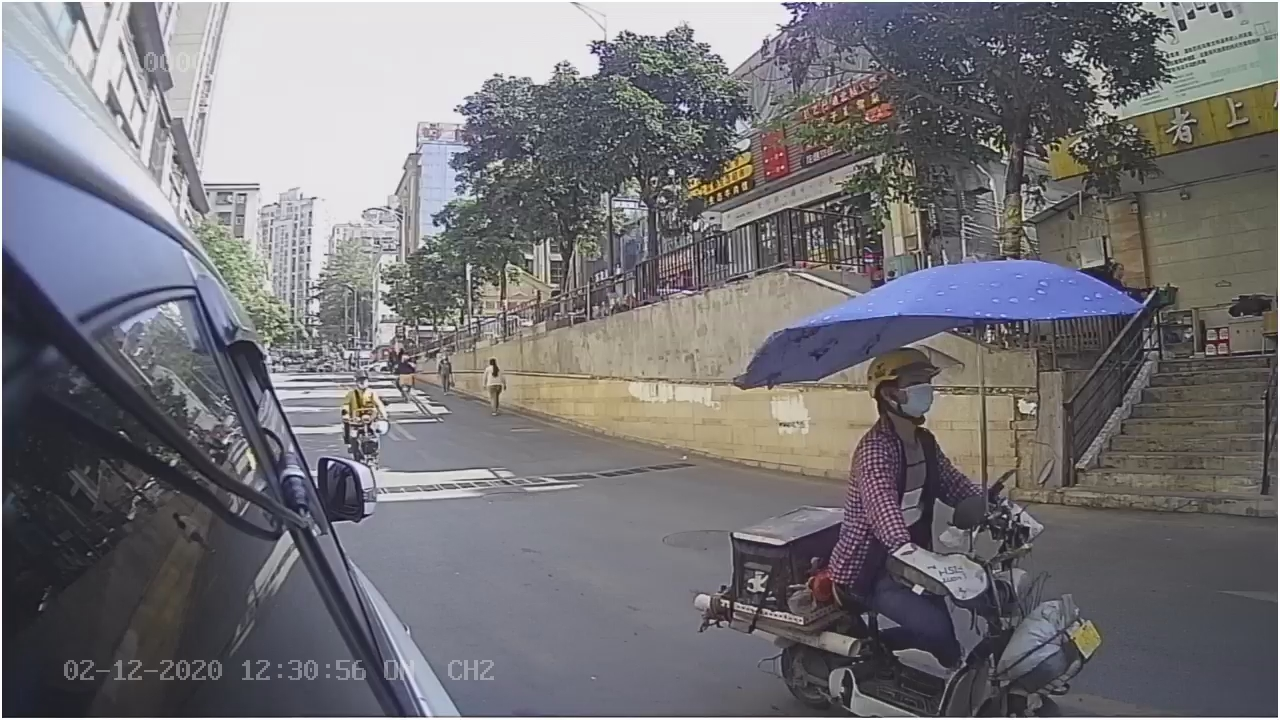person: (844, 345, 1025, 563)
